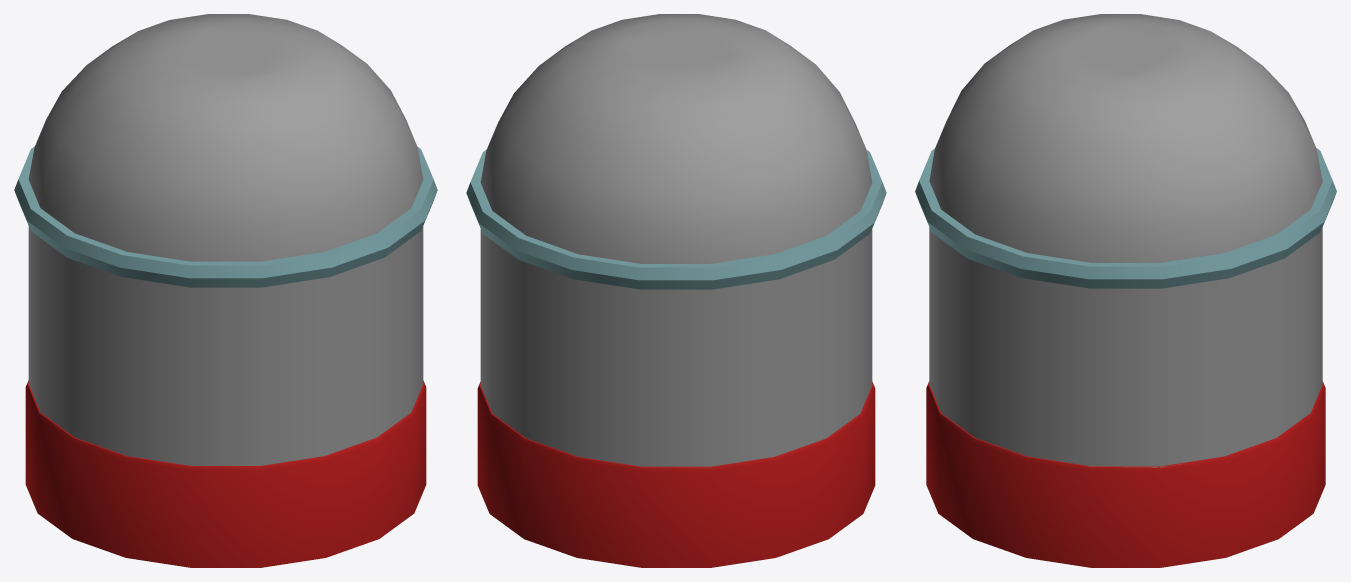
The model's file is GZZbuckt.fbx.
3 views of the same model, side by side, from view 1: azimuth 30°, elevation 25°; view 2: azimuth 150°, elevation 25°; view 3: azimuth 270°, elevation 25° (orthographic).
Visible parts, largest first — view 1: Cylinder.006, Cylinder.008; view 2: Cylinder.006, Cylinder.008; view 3: Cylinder.006, Cylinder.008.
Boxes of the visible parts, x1,y1,x2,y2 form: Cylinder.006: (28, 14, 423, 465); Cylinder.008: (14, 146, 437, 567); Cylinder.006: (480, 14, 872, 466); Cylinder.008: (466, 149, 886, 567); Cylinder.006: (929, 14, 1322, 466); Cylinder.008: (915, 148, 1336, 567).
Bounding box in the file's own units: 0.7068 × 0.8139 × 0.7177.
